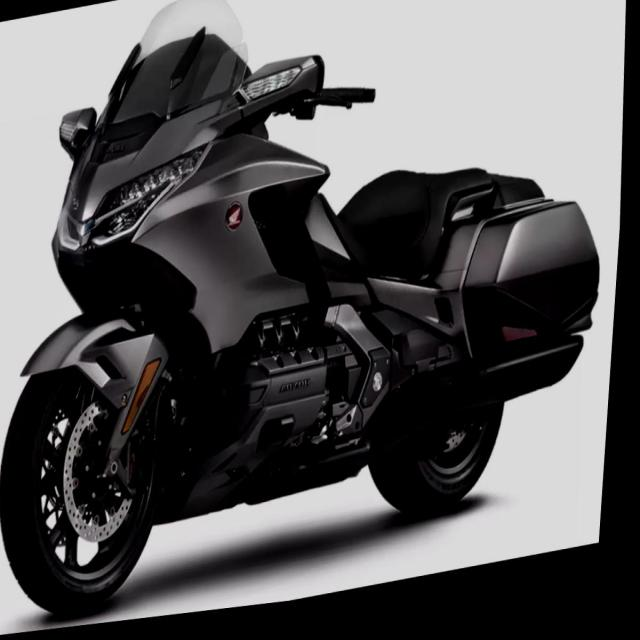Gold Wing: (0, 0, 635, 636)
